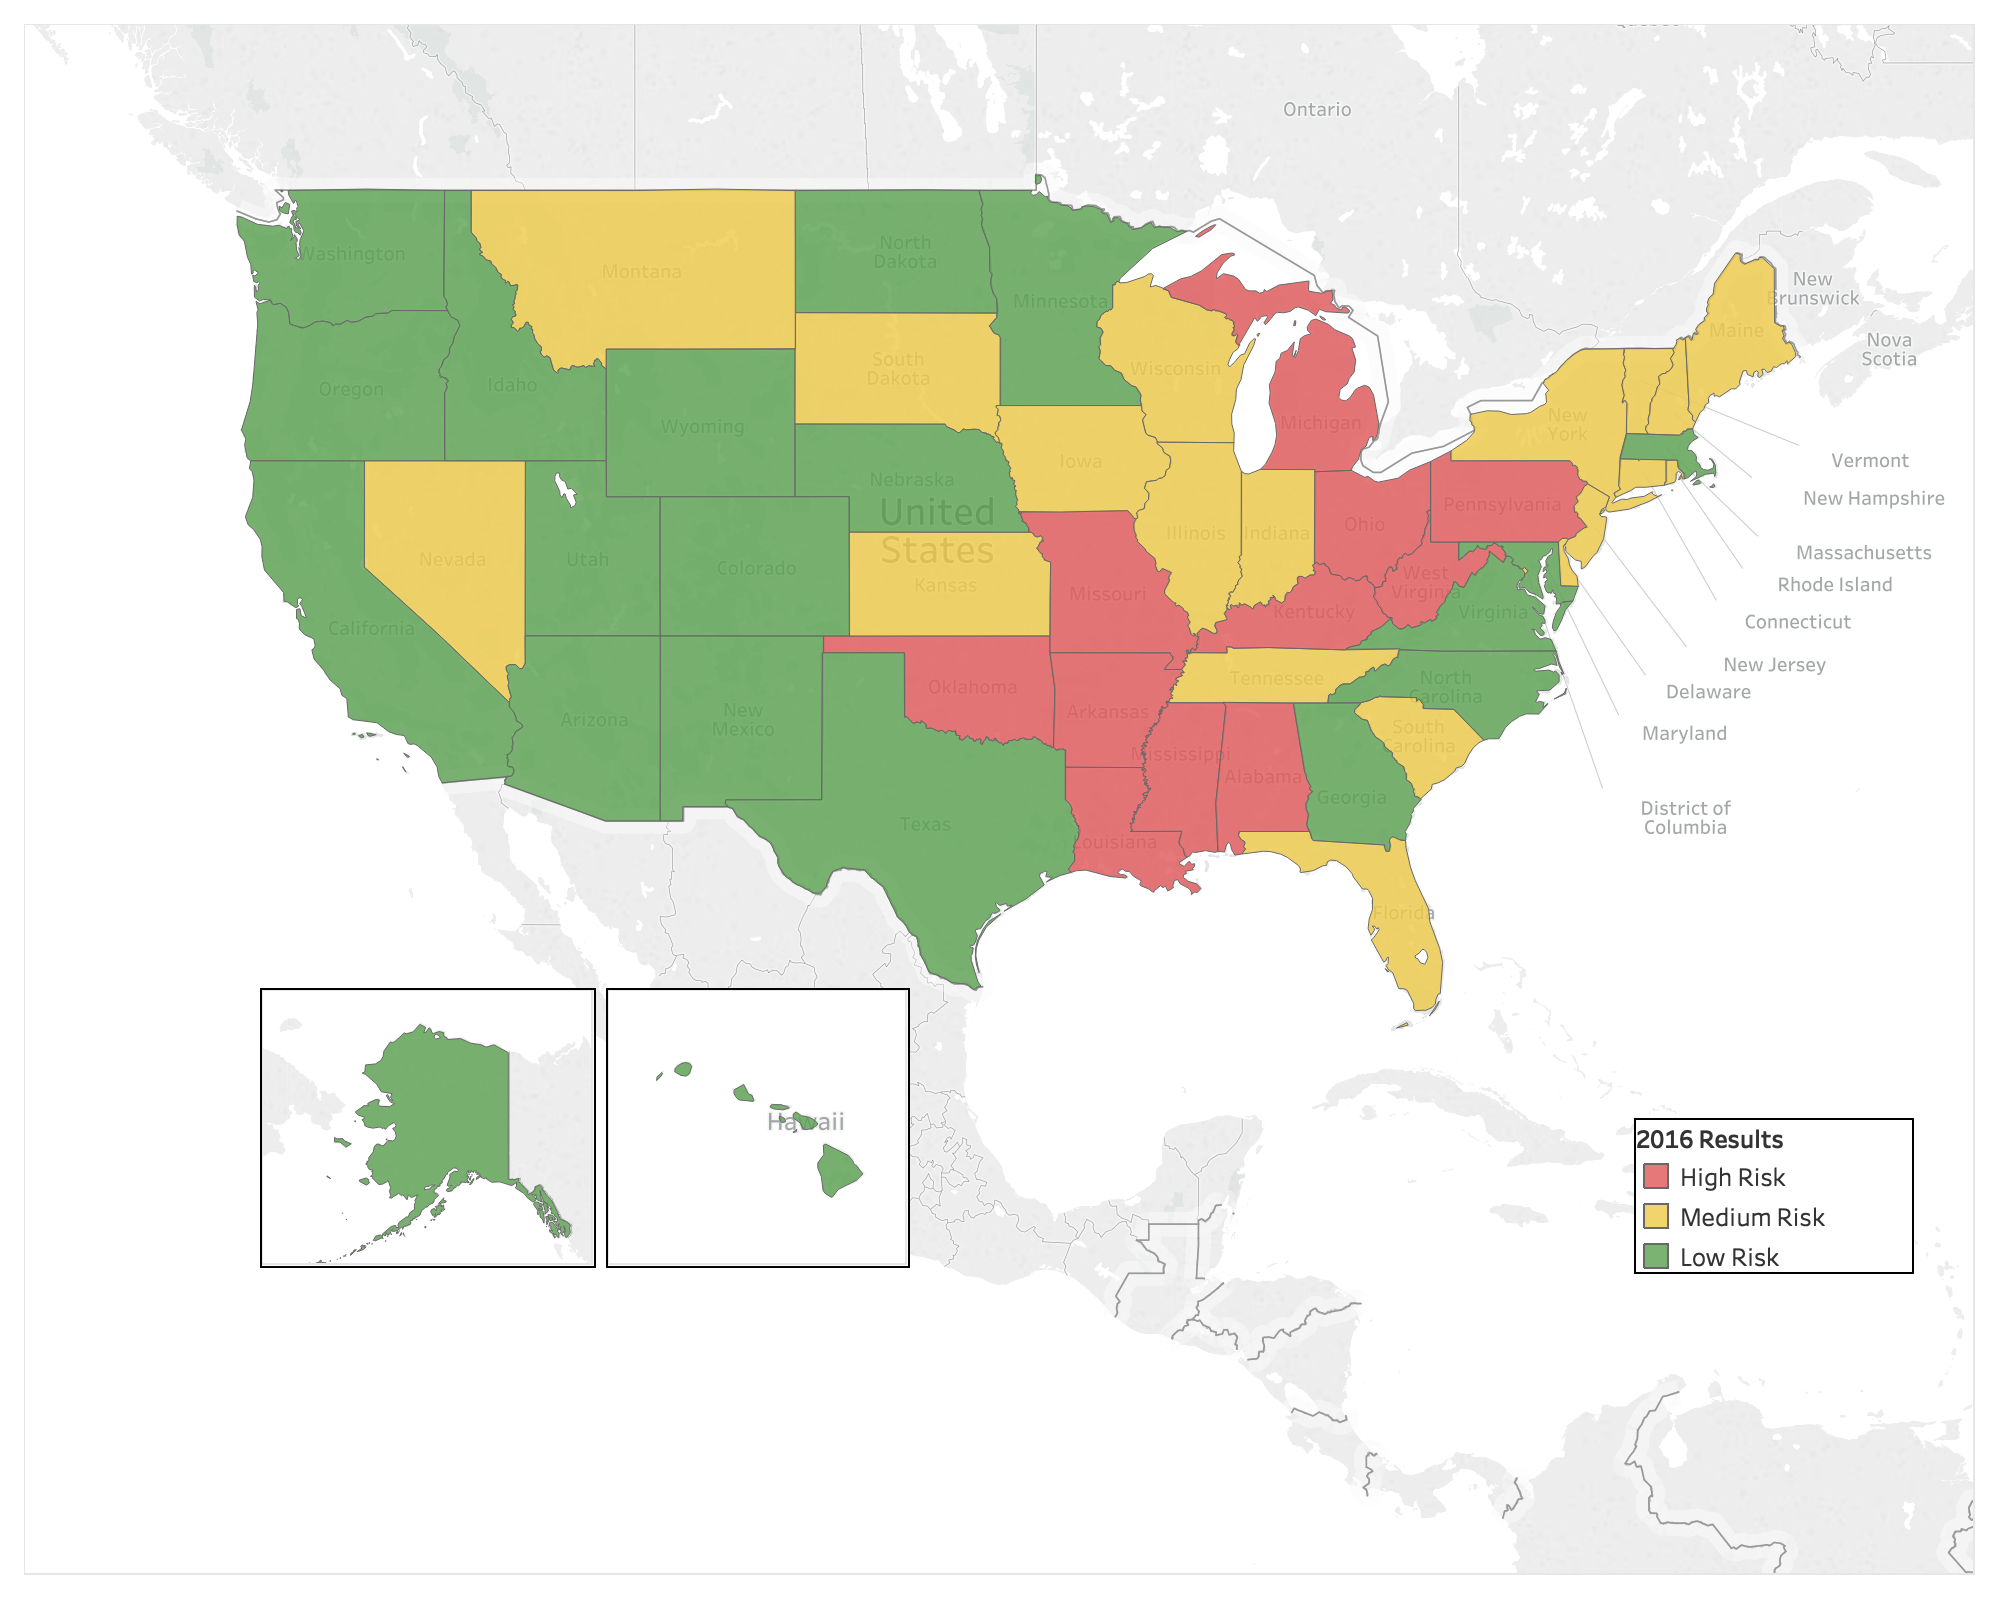

This screenshot's page, from the dashboard's own definition file:
{"tool":"tableau","page":{"name":"Combined Dashboard","canvas":[1000,800],"ordinal":0},"visuals":[{"type":"worksheet","title":"Continental US","mark":"Multipolygon","box":[8,8,984,784]},{"type":"worksheet","title":"Alaska","mark":"Multipolygon","box":[130,494,168,140]},{"type":"worksheet","title":"Hawaii","mark":"Multipolygon","box":[303,494,152,140]},{"type":"legend","title":"Continental US","param":"[federated.0m2l6ym0lxfjpv17yf2tp1avjzvb].[none:Calculation_3261732089231159298:n","box":[817,559,140,78]}]}

Visuals, with their boxes in screenshot pixels (x1, y1, x2, y2), scaled from the page's 1000x800 canvas onto the 2000x1600 screenshot:
"Continental US" worksheet (Multipolygon marks): 16, 16, 1984, 1584
"Alaska" worksheet (Multipolygon marks): 260, 988, 596, 1268
"Hawaii" worksheet (Multipolygon marks): 606, 988, 910, 1268
"Continental US" legend: 1634, 1118, 1914, 1274
